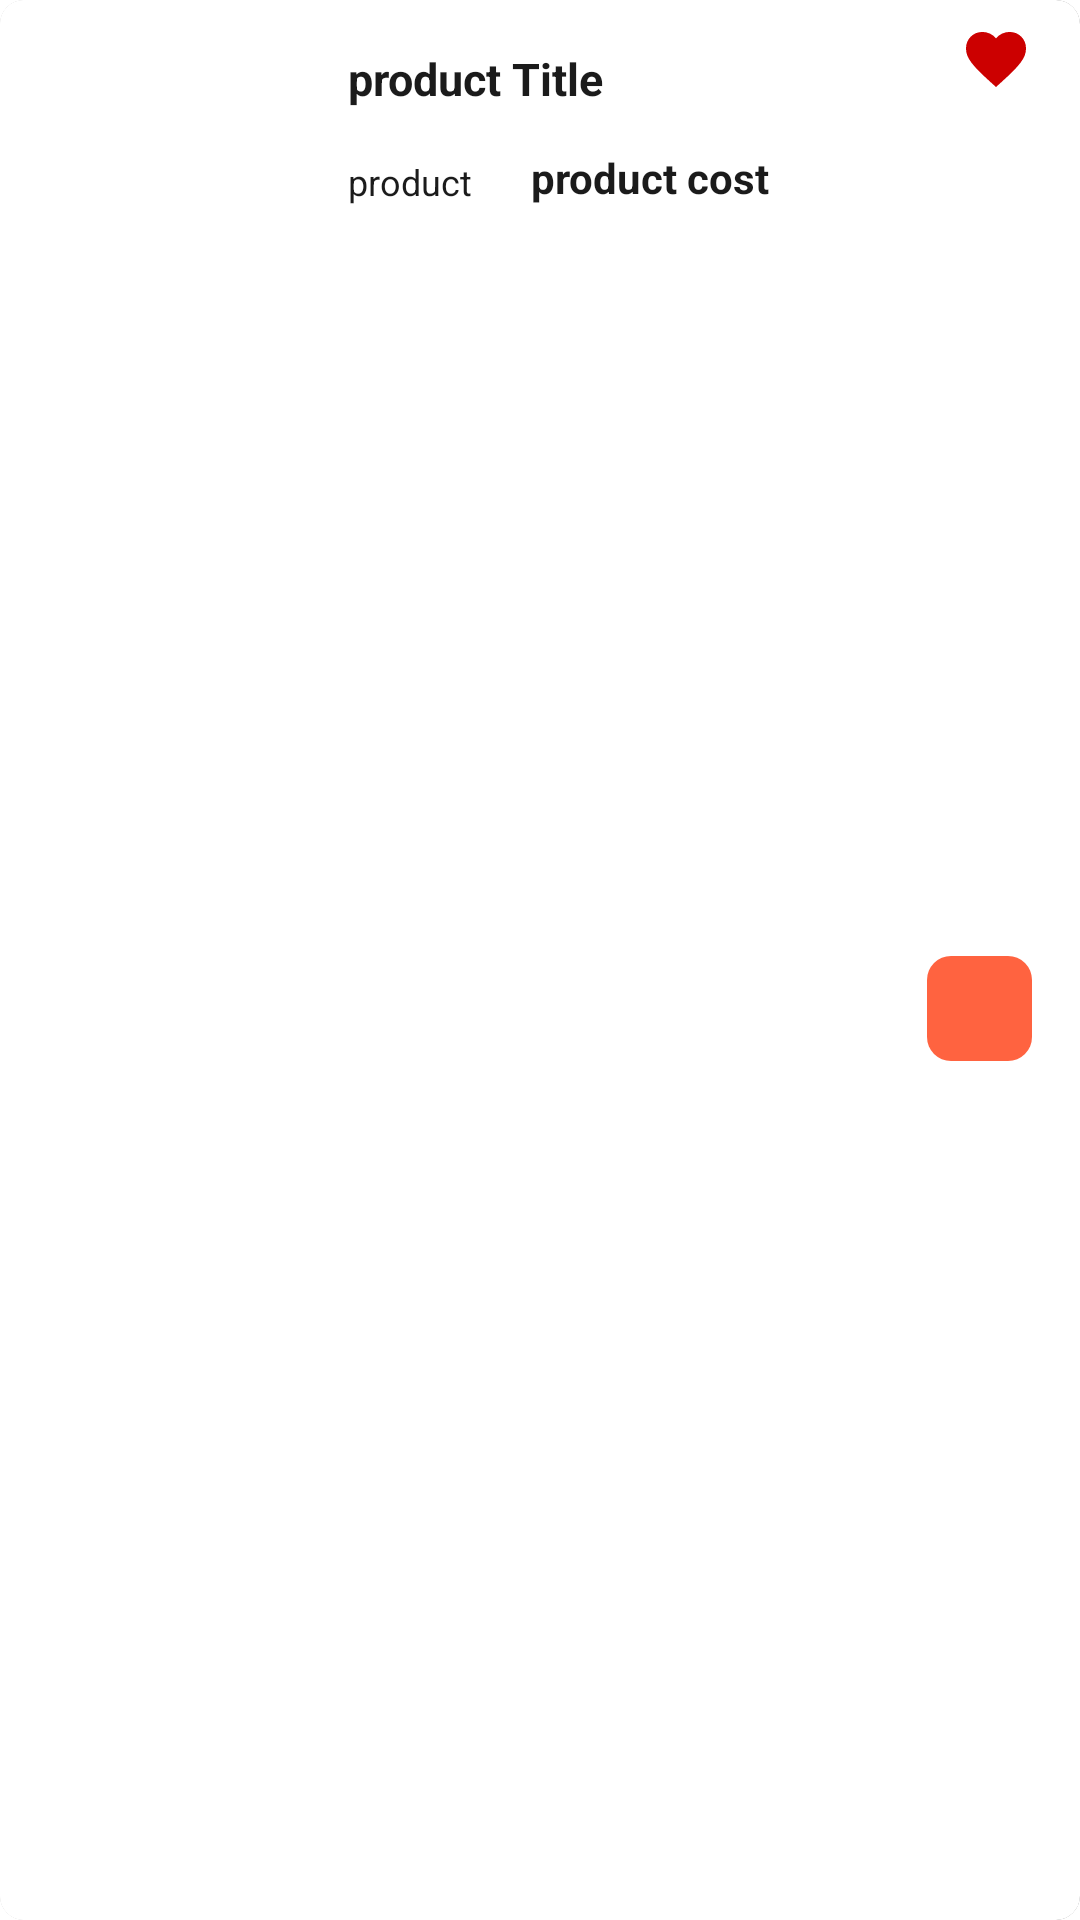

Named icons in this screenshot (1080px×1920px) and their bounding boxes, (x1,y1,x2,y2):
favourite: (966,32,1026,87)
